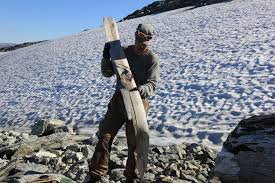skis: (101, 15, 150, 179)
